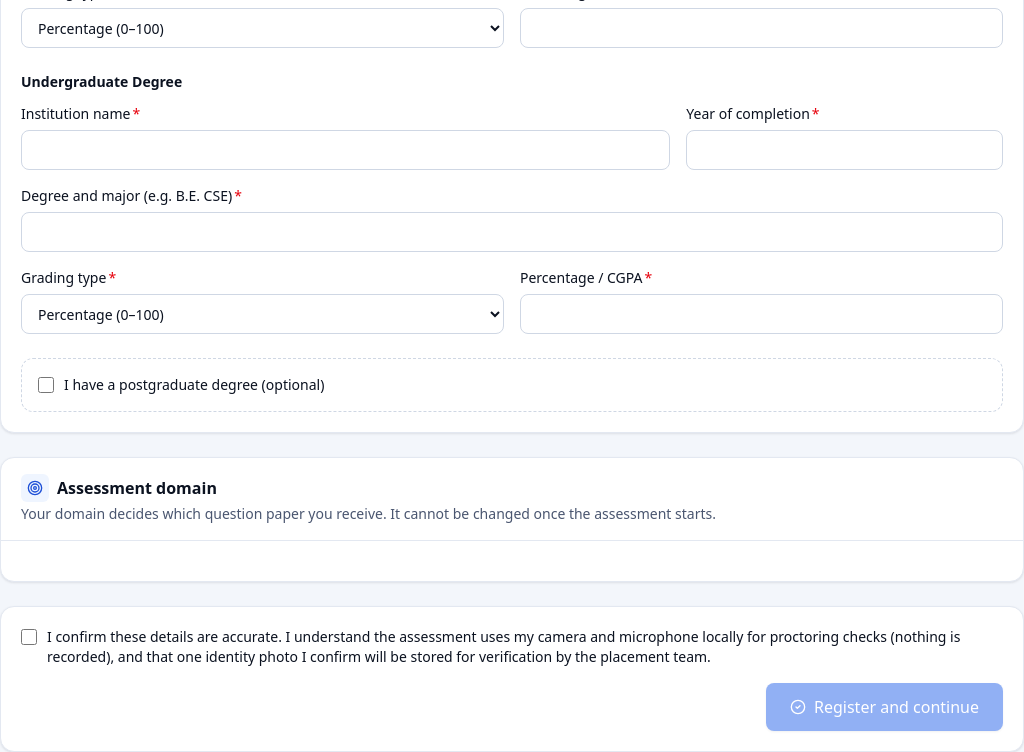
Test: RegisterPage › keeps PG optional and reveals PG fields on demand
(page scrolled)
Click the checkbox labelled "I have a postgraduate degree (optional)": point(46, 385) [38,377,54,393]
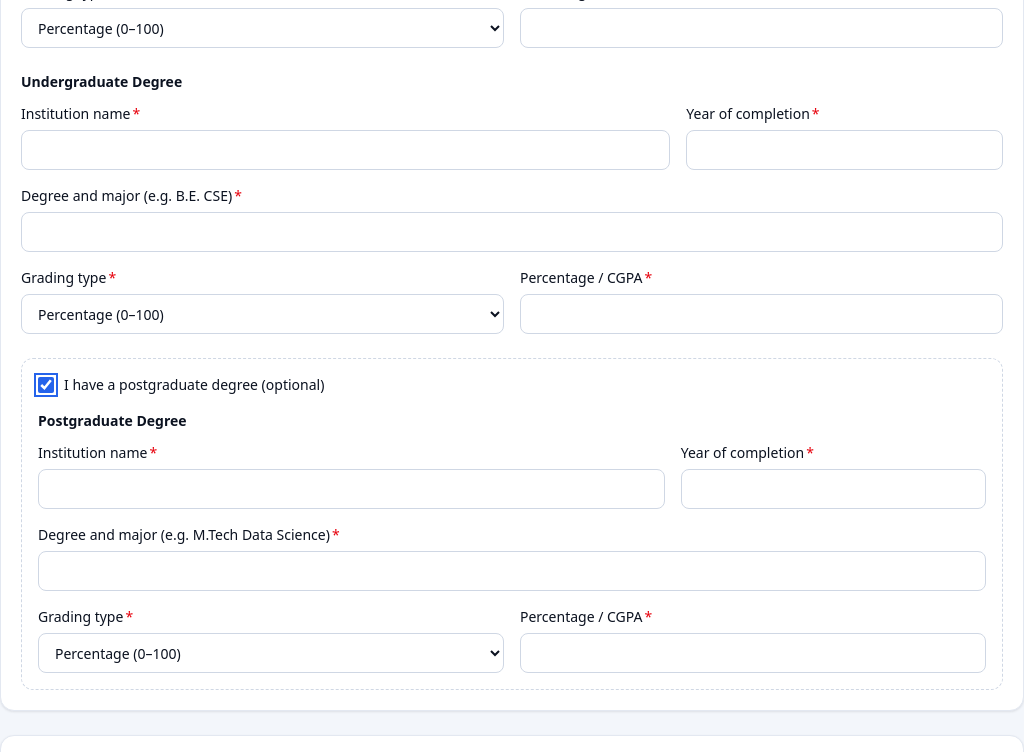
Check: the heading "Postgraduate Degree" is shown, box [38,411,186,430]
